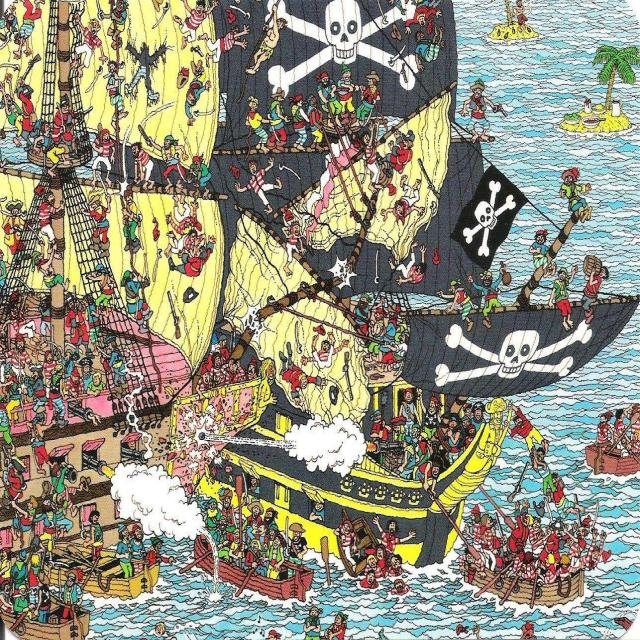waldo: (463, 403, 472, 418)
